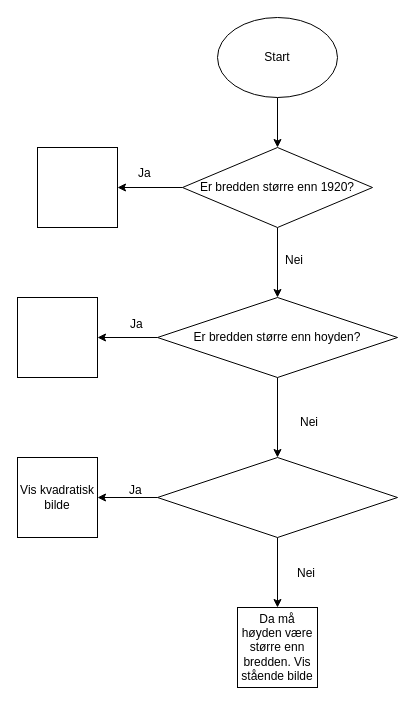
This 415x705 diagram has some shape labels left out. Here are the shapes that lost their labels. From the top down, the box of each, then its label:
(36, 146, 118, 228): Skriv ut feilmelding.
(16, 296, 98, 378): Vis liggende bilde
(156, 456, 398, 538): Er bredden like stor som høyden?
